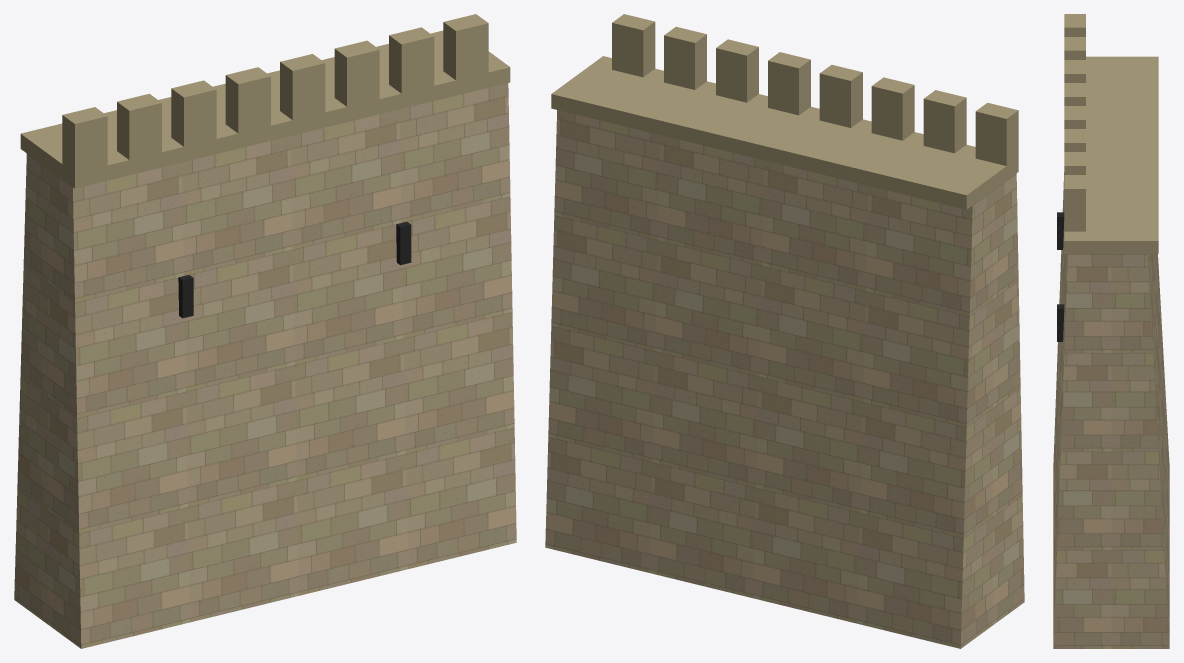
File: derbent_wall_12m.glb
The picture shows the model from 3 angles, left to right: view 1: azimuth 30°, elevation 25°; view 2: azimuth 150°, elevation 25°; view 3: azimuth 270°, elevation 25°; orthographic projection. The views are drawn at different scales.
Visible parts, largest first — view 1: Derbent_Wall_12m; view 2: Derbent_Wall_12m; view 3: Derbent_Wall_12m.
Part boxes in pixels (bbox=[...]): Derbent_Wall_12m: bbox=[14, 14, 516, 648]; Derbent_Wall_12m: bbox=[545, 14, 1024, 648]; Derbent_Wall_12m: bbox=[1053, 14, 1169, 648].
Bounding box in the file's own units: 12 × 13.7 × 3.2.
Materials: 2 (1 with a texture image).
